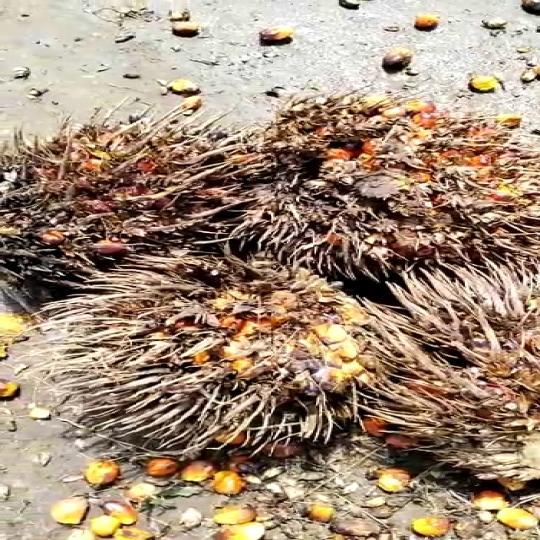terlalu masak: (24, 255, 357, 461), (213, 96, 540, 272), (0, 117, 264, 278)
